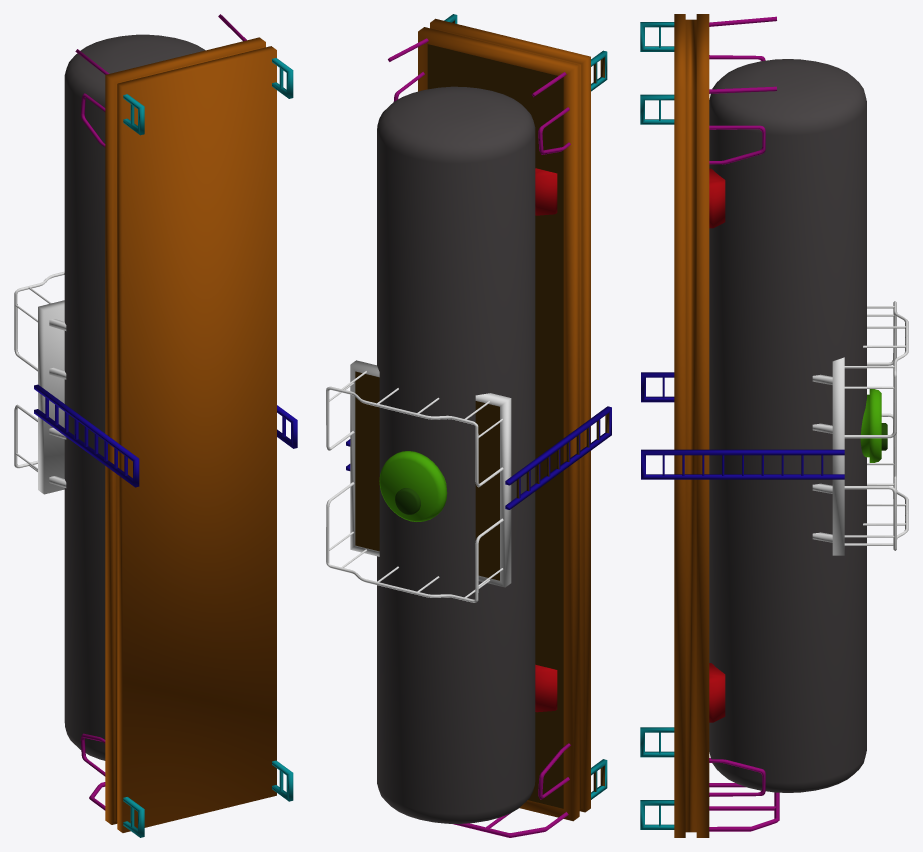
File: CargoWagon01.fbx
The picture shows the model from 3 angles, left to right: view 1: azimuth 30°, elevation 25°; view 2: azimuth 150°, elevation 25°; view 3: azimuth 270°, elevation 25°; orthographic projection.
Parts seen in each view (by area): view 1: LP_13_4_CargoWagon_01; view 2: LP_13_4_CargoWagon_01; view 3: LP_13_4_CargoWagon_01.
Part boxes in pixels (x1,y1,x2,y2): LP_13_4_CargoWagon_01: (14, 14, 297, 837); LP_13_4_CargoWagon_01: (326, 14, 611, 837); LP_13_4_CargoWagon_01: (640, 14, 908, 837).
Bounding box in the file's own units: 3.06 × 13.4 × 4.35.
